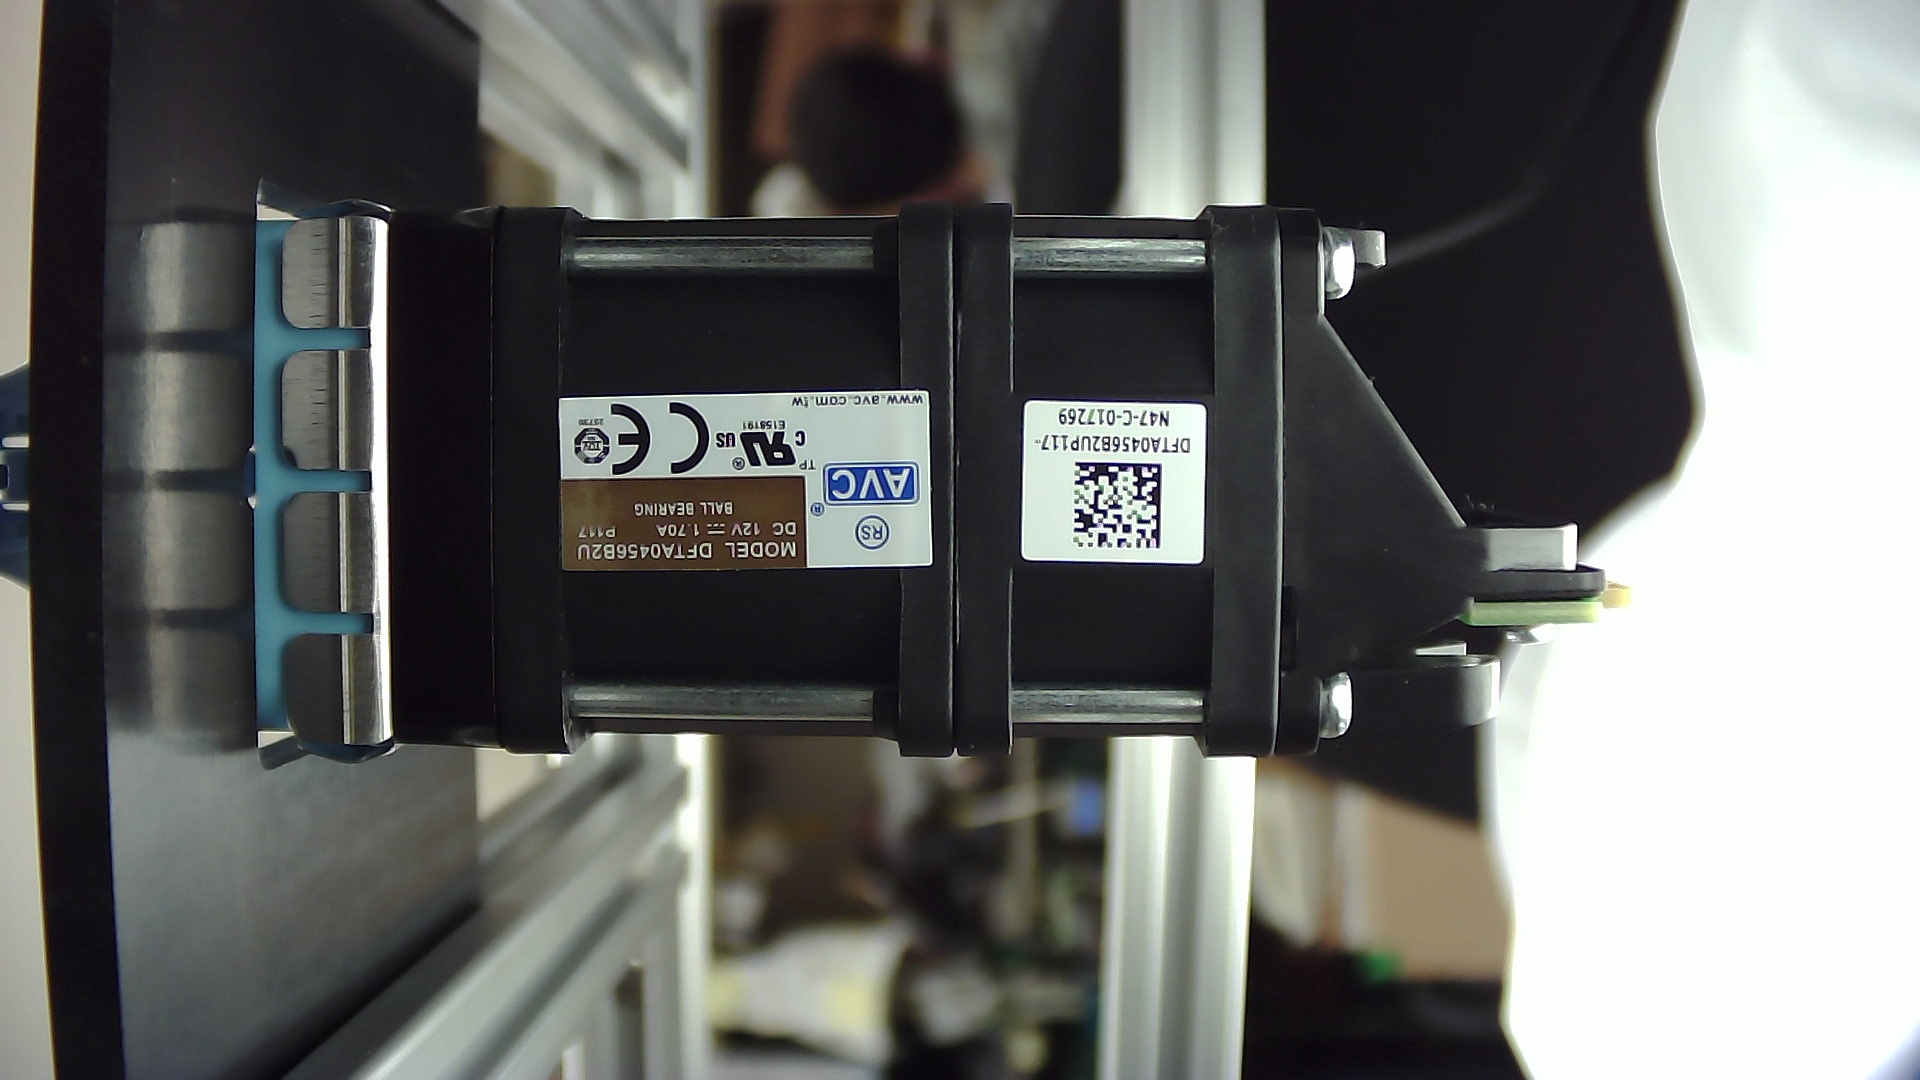5_0: (225, 152, 1646, 786)
